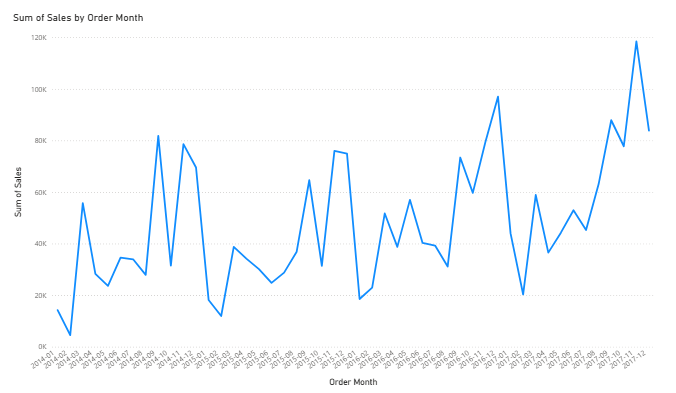

What the dashboard file says about the page in this screenshot:
{"tool":"powerbi","page":{"name":"Sales Trends","canvas":[1280,720],"ordinal":2},"visuals":[{"type":"lineChart","fields":{"Y":["Sum(superstore_powerbi_import.Sales)"],"Category":["superstore_powerbi_import.Order Month"]},"box":[10,0,1018.8,592.5],"z":0}]}

Visuals, with their boxes on the page's 1280x720 design canvas (x1, y1, x2, y2). These are canvas units, not pixel positions in the 676x393 screenshot, which may show the page scaled, cropped or inside an application window:
lineChart - Sum(superstore_powerbi_import.Sales) x superstore_powerbi_import.Order Month: select_region(10, 0, 1029, 592)
